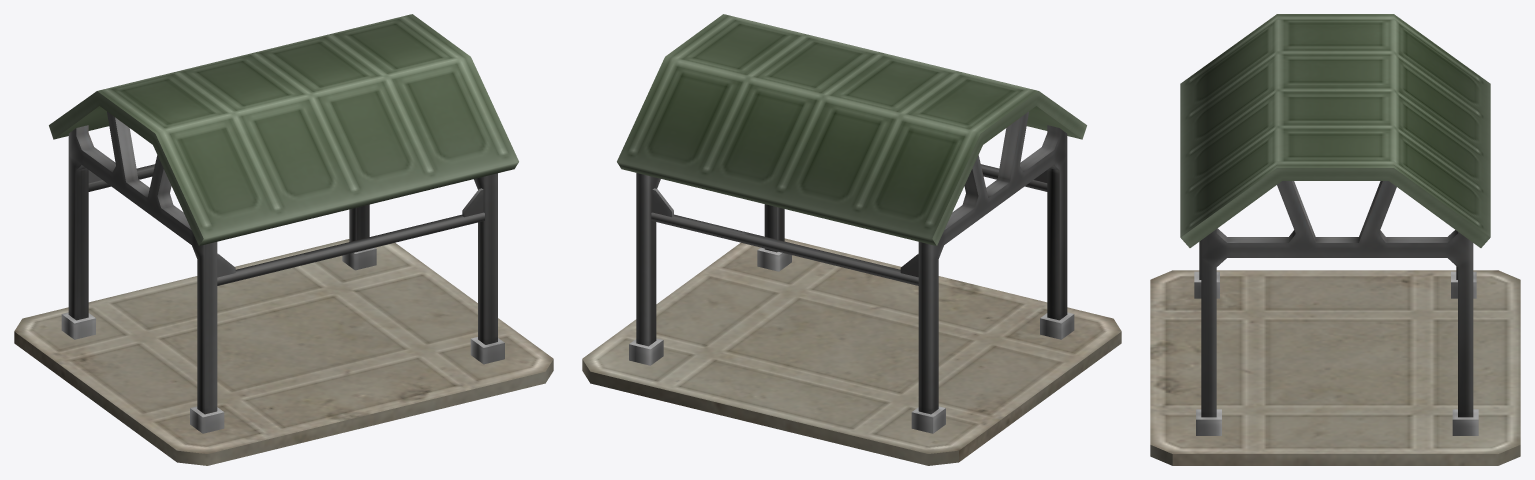
The model's file is Garage.FBX.
3 views of the same model, side by side, from view 1: azimuth 30°, elevation 25°; view 2: azimuth 150°, elevation 25°; view 3: azimuth 270°, elevation 25° (orthographic).
Visible parts, largest first — view 1: Garage; view 2: Garage; view 3: Garage.
Boxes of the visible parts, <box> form: Garage: <box>14,14,553,465</box>; Garage: <box>582,14,1121,465</box>; Garage: <box>1150,14,1520,465</box>.
Size of the model in its own units: 1018 by 731 by 866.
